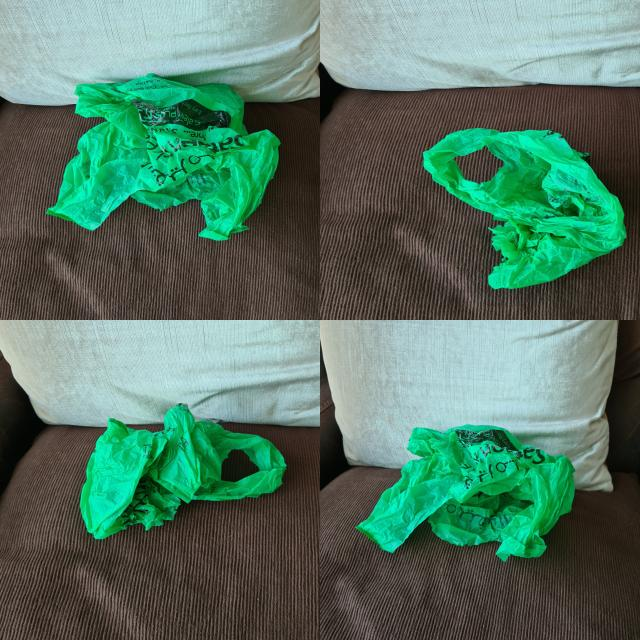Single-layer Plastic: (48, 74, 279, 240), (424, 129, 626, 289), (358, 425, 574, 560), (80, 404, 285, 539)
